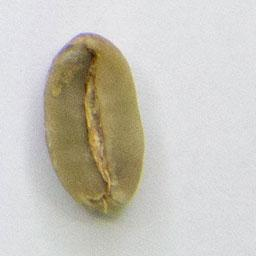longberry: (38, 28, 148, 220)
